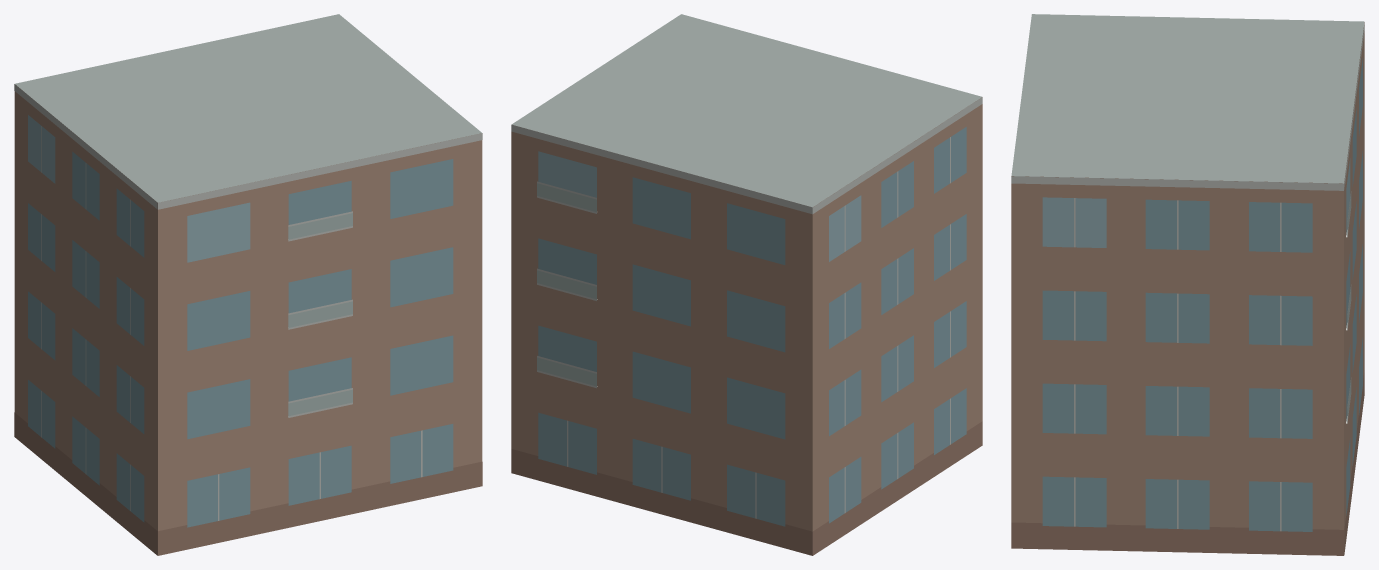
File: survey-upis-32718056.glb
3 views of the same model, side by side, from view 1: azimuth 30°, elevation 25°; view 2: azimuth 150°, elevation 25°; view 3: azimuth 270°, elevation 25° (orthographic). The views are drawn at different scales.
Parts seen in each view (by area): view 1: survey-upis-32718056.tmp; view 2: survey-upis-32718056.tmp; view 3: survey-upis-32718056.tmp.
Boxes of the visible parts, x1,y1,x2,y2 form: survey-upis-32718056.tmp: [14, 14, 482, 555]; survey-upis-32718056.tmp: [511, 14, 982, 555]; survey-upis-32718056.tmp: [1011, 14, 1364, 555].
Size of the model in its own units: 11.92 by 12.2 by 10.5.
